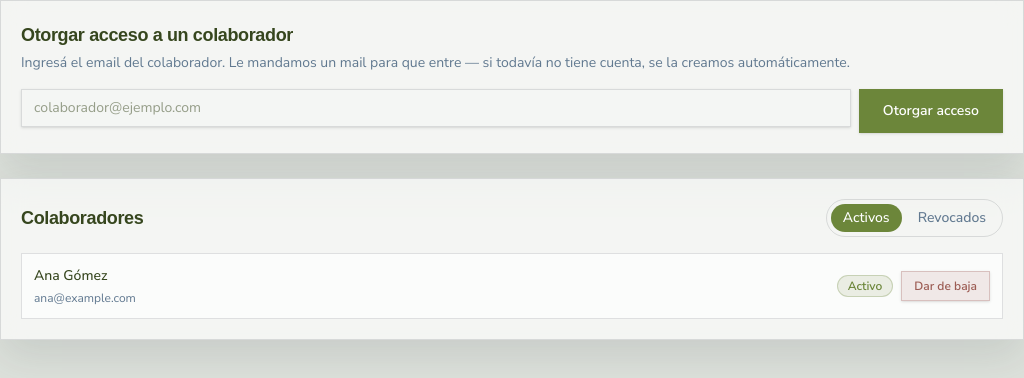
Test: TeamSection (KAN-306) › la pestaña Activos no incluye colaboradores revocados, y la pestaña Revocados sí
Expected: the text "Ana Gómez" is shown, top-left (34, 266), bottom-right (107, 285)
Expected: the text "Beto Ruiz" is not shown
What coordinates should you click on to do the following:
click the button "Revocados"
I would click on:
 (952, 218)
Its box is top-left (906, 204), bottom-right (998, 232).
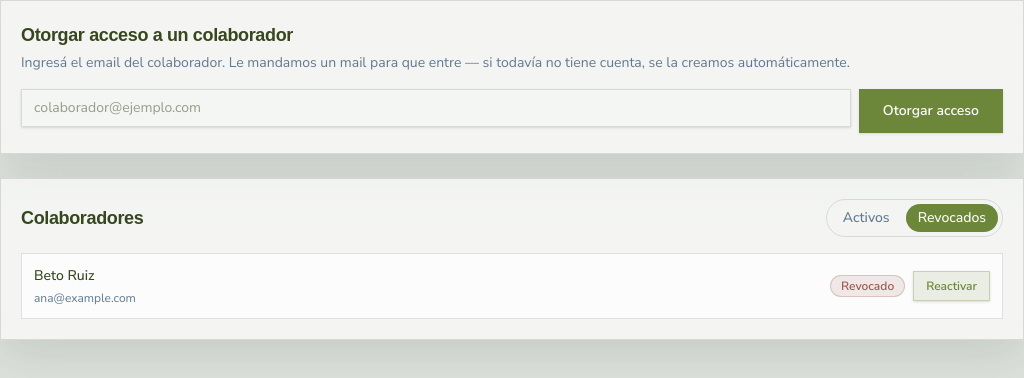
Now the text "Ana Gómez" is gone
Now the text "Beto Ruiz" is shown, box top-left (34, 266), bottom-right (95, 285)
Now the button "Reactivar" is shown, box top-left (913, 271), bottom-right (990, 301)
